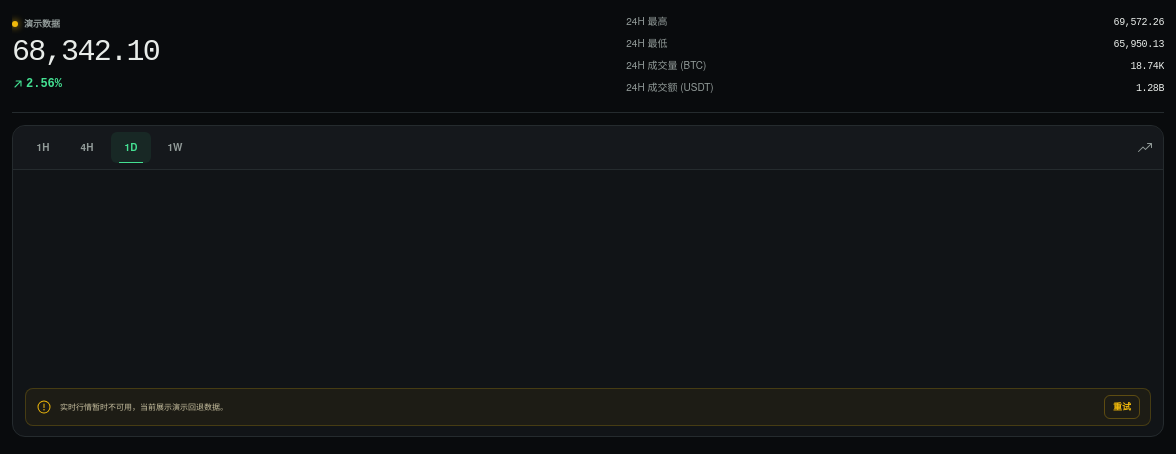
it: TradeMarketPanel › labels fallback data and retries failed public requests
Expected: the text "演示数据" is shown, [12,17,60,30]
Click the button with aria-label "重试实时行情": [1122, 407] box [1104,395,1140,418]
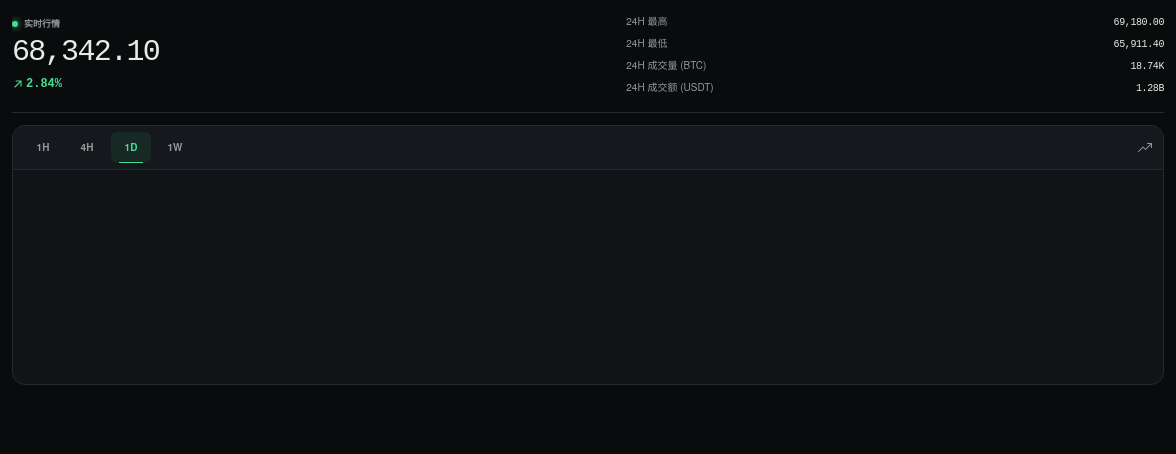
Expected: the text "实时行情" is shown, [12,17,60,30]
